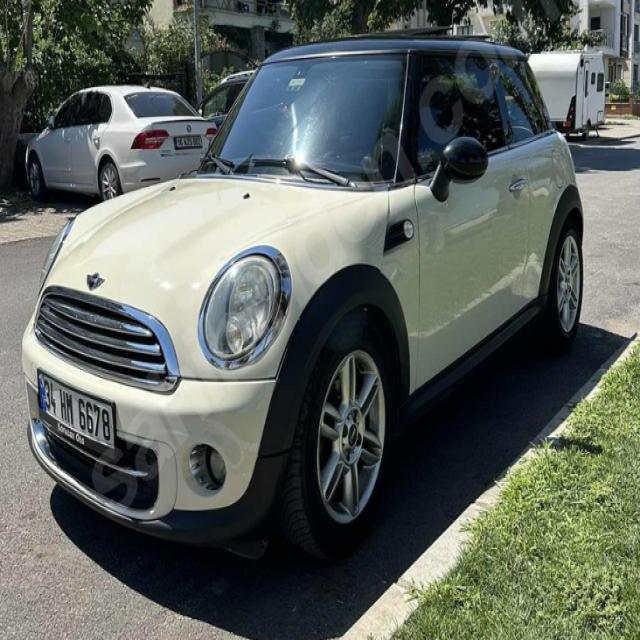mini: (83, 260, 108, 296)
